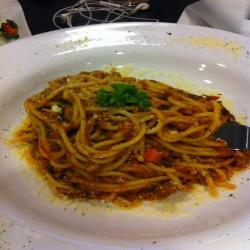bolonese_pasta: (10, 67, 245, 208)
